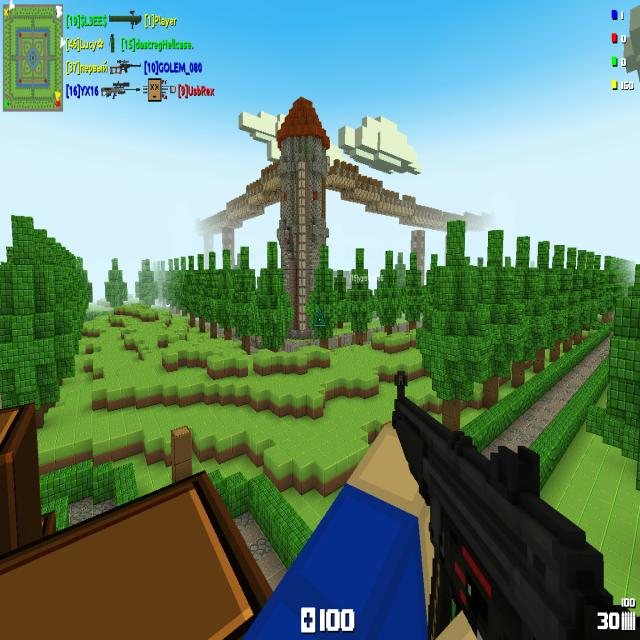enemy: (287, 227, 290, 244)
